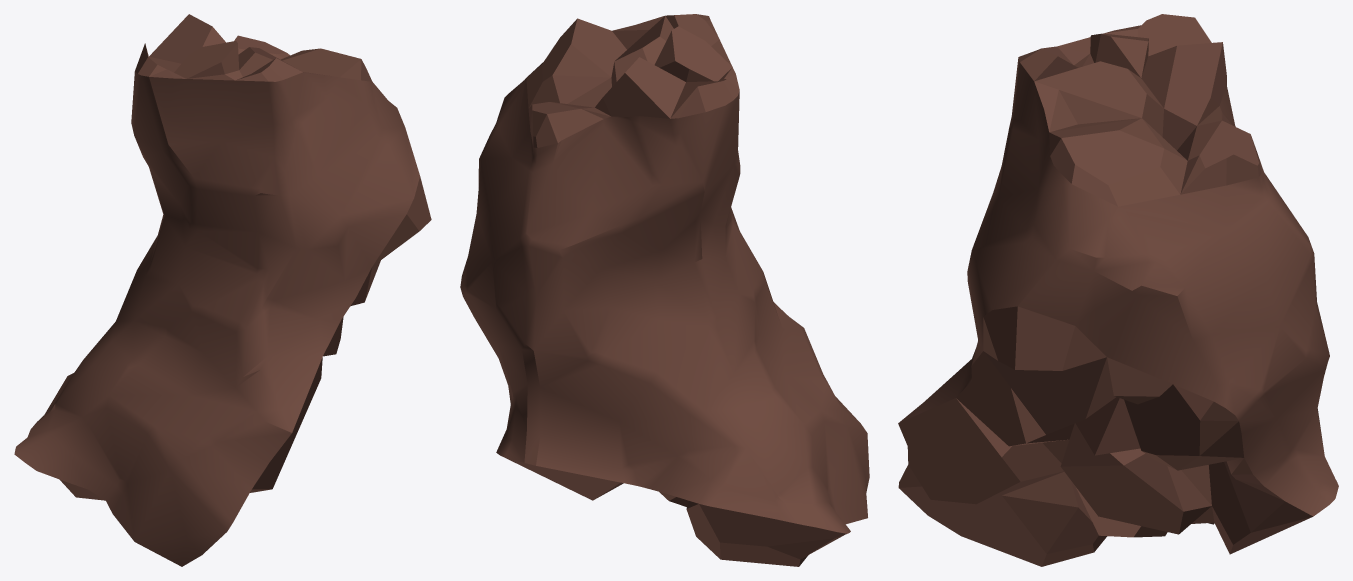
Rendered from p_mesh_hvs_stalagmite_medium_destruction_part05.fbx.
3 views of the same model, side by side, from view 1: azimuth 30°, elevation 25°; view 2: azimuth 150°, elevation 25°; view 3: azimuth 270°, elevation 25° (orthographic). The views are drawn at different scales.
Parts seen in each view (by area): view 1: p_medium_part5; view 2: p_medium_part5; view 3: p_medium_part5.
Boxes of the visible parts, x1,y1,x2,y2 form: p_medium_part5: [14, 14, 431, 566]; p_medium_part5: [460, 14, 869, 566]; p_medium_part5: [898, 14, 1338, 566].
Size of the model in its own units: 5.78 by 7.23 by 5.07.
